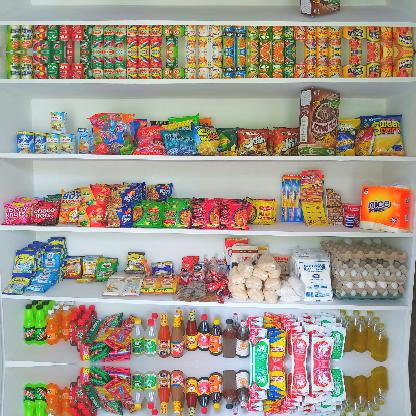Koko-Krunch: (296, 87, 340, 155), (296, 0, 340, 18)
